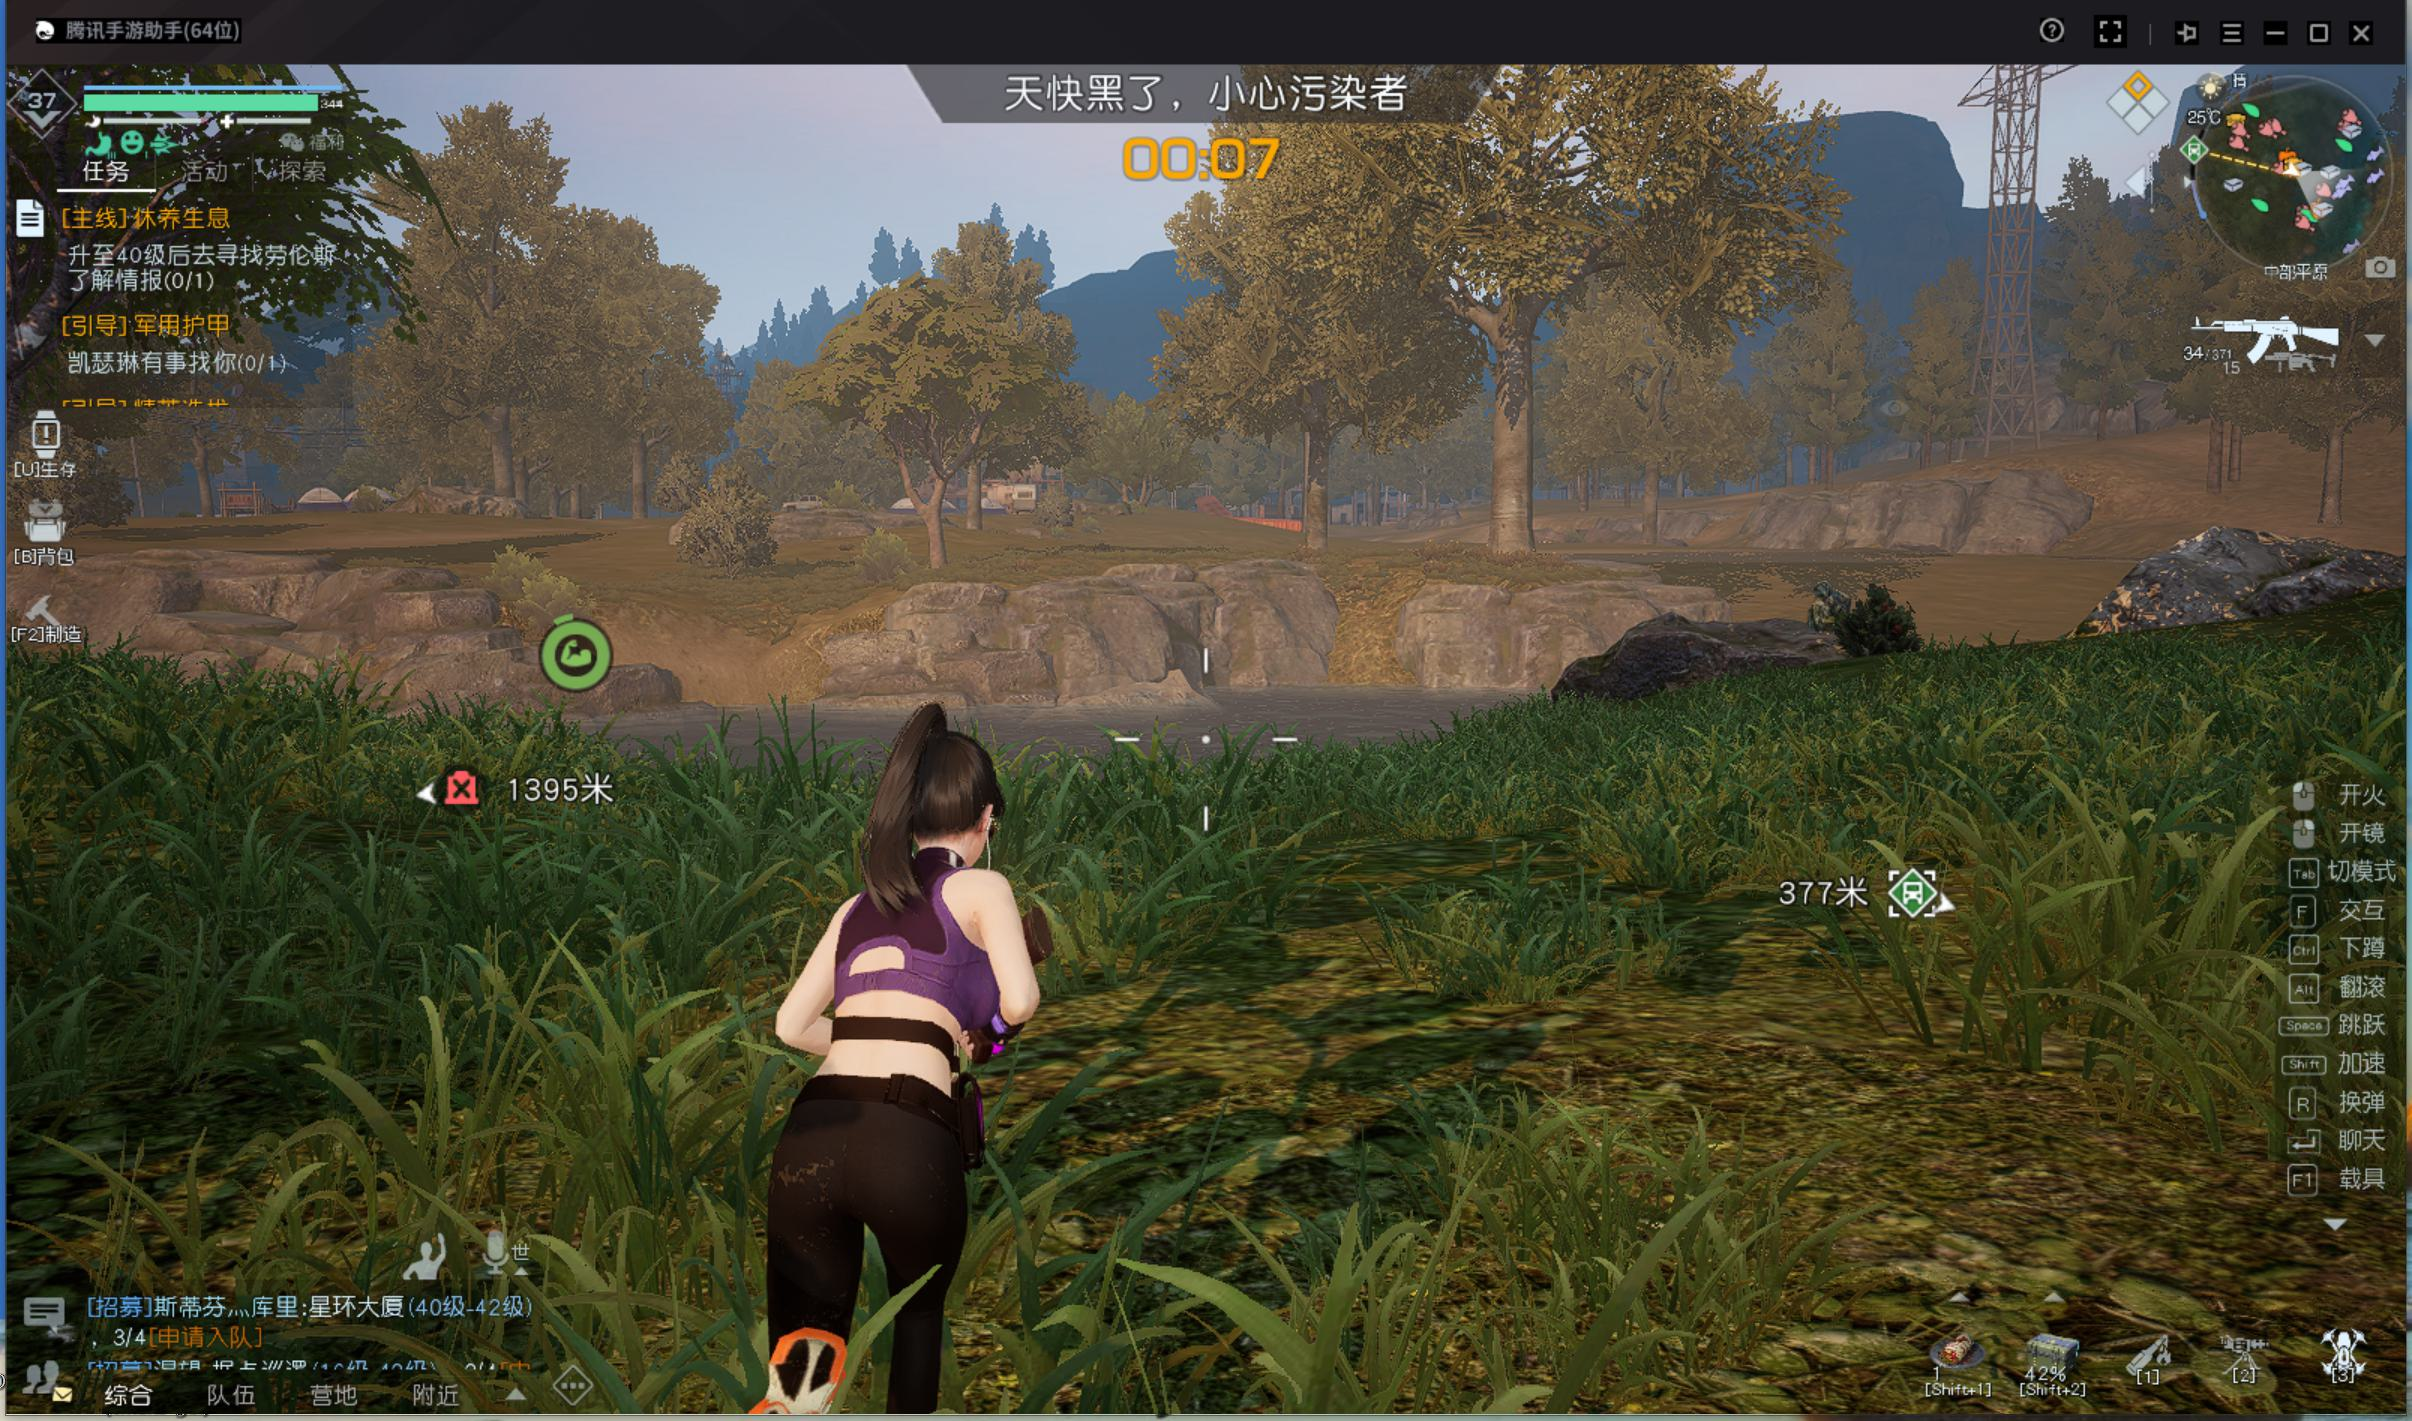tree: (1482, 354, 1543, 584), (1296, 428, 1331, 553), (484, 411, 529, 506), (1627, 465, 1663, 550), (918, 487, 951, 567), (628, 447, 653, 521)
